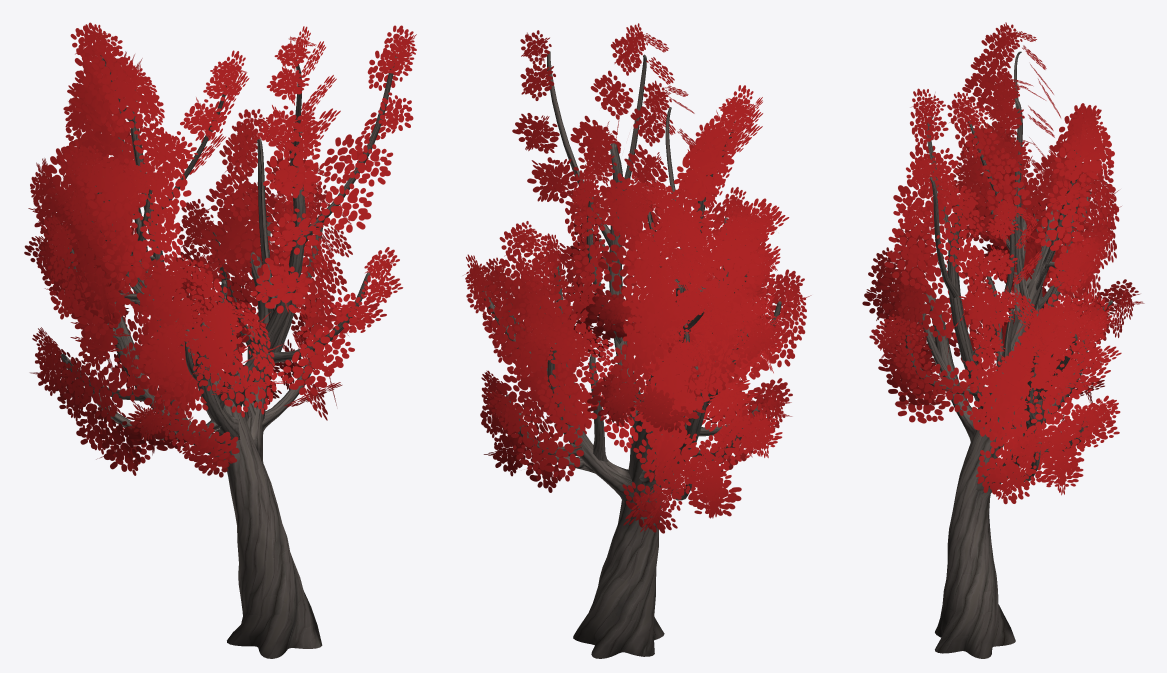
The model's file is twisted-tree-gvtsmmuzv7-transformed.glb.
3 views of the same model, side by side, from view 1: azimuth 30°, elevation 25°; view 2: azimuth 150°, elevation 25°; view 3: azimuth 270°, elevation 25° (orthographic). The views are drawn at different scales.
Parts seen in each view (by area): view 1: TwistedTree_2; view 2: TwistedTree_2; view 3: TwistedTree_2.
Boxes of the visible parts, x1,y1,x2,y2 form: TwistedTree_2: (24, 22, 416, 658); TwistedTree_2: (463, 23, 811, 658); TwistedTree_2: (862, 22, 1144, 658).
Size of the model in its own units: 10.56 by 18.95 by 9.2.
2 materials, 2 textured.
